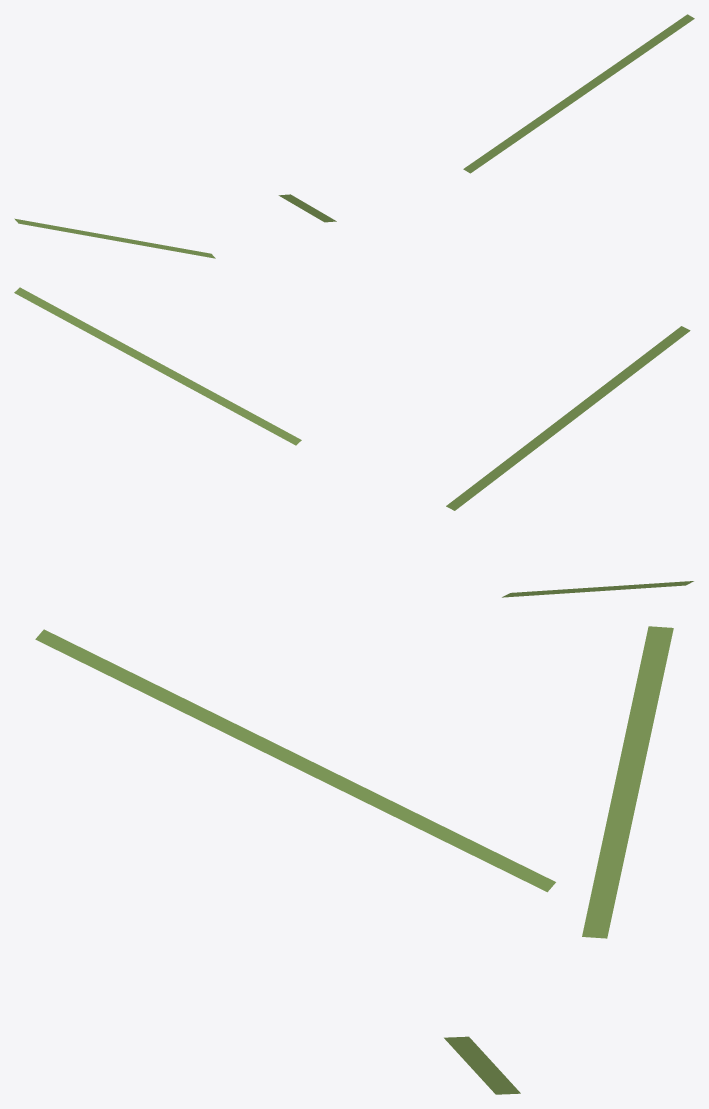
Rendered from broadleaf_lod2.glb.
3 renders of one model, top to bottom at view 1: azimuth 30°, elevation 25°; view 2: azimuth 150°, elevation 25°; view 3: azimuth 270°, elevation 25°, orthographic. The views are drawn at different scales.
Visible parts, largest first — view 1: Leaves; view 2: Leaves; view 3: Leaves.
Part boxes in pixels (x1,y1,x2,y2): Leaves: [14, 14, 694, 258]; Leaves: [14, 287, 693, 597]; Leaves: [35, 626, 673, 1094].
Size of the model in its own units: 0.8188 by 0.1769 by 0.3548.
